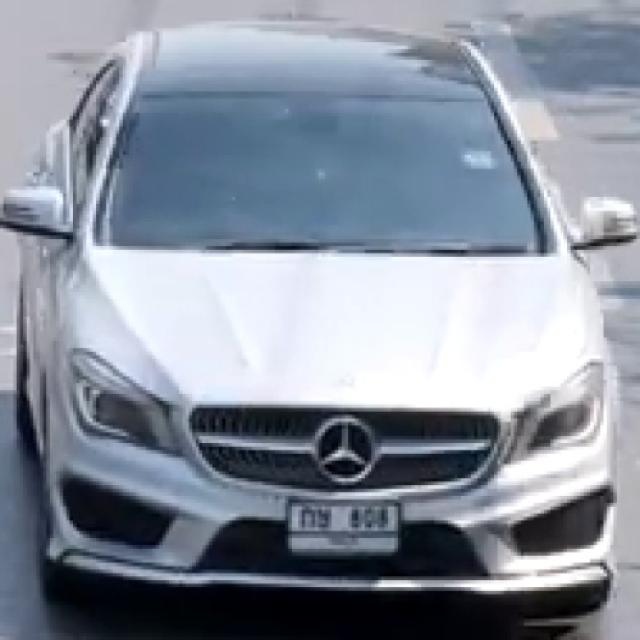plate: (283, 496, 403, 558)
